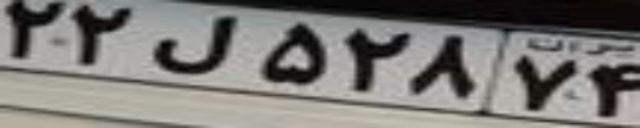2: (344, 28, 407, 91), (73, 4, 134, 64), (5, 1, 64, 57)
4: (587, 62, 638, 117)
5: (260, 22, 325, 84)
7: (510, 51, 578, 113)
8: (410, 32, 472, 96)
lam: (151, 15, 233, 74)
